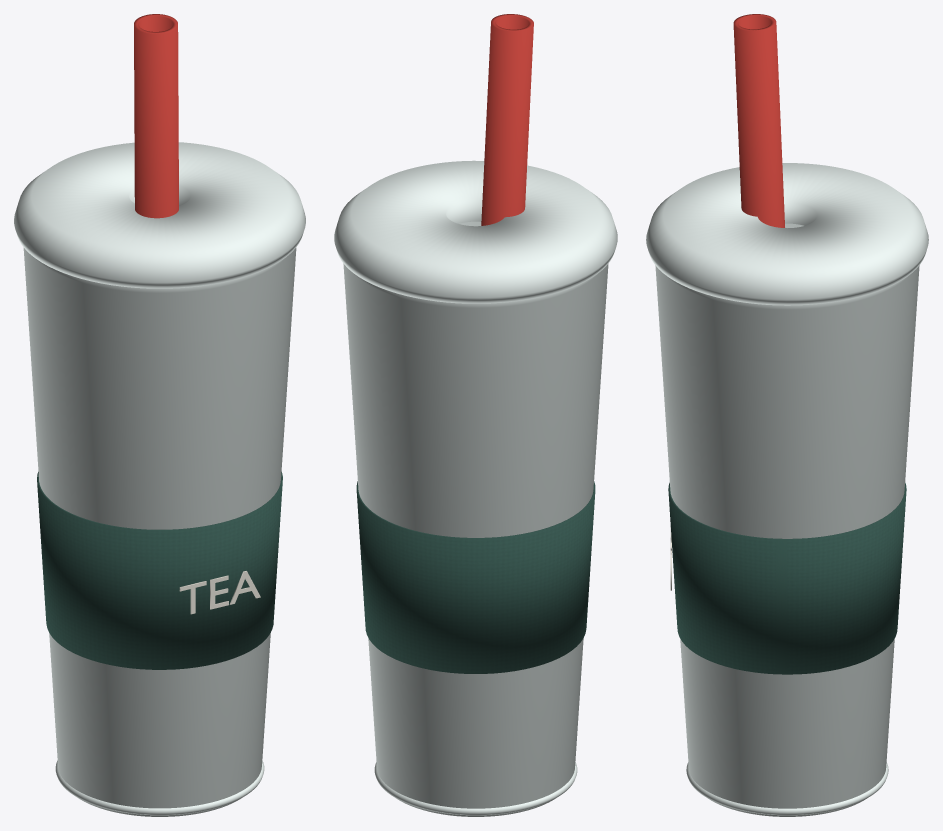
Rendered from bubble_tea.glb.
3 renders of one model, left to right at view 1: azimuth 30°, elevation 25°; view 2: azimuth 150°, elevation 25°; view 3: azimuth 270°, elevation 25°, orthographic. The views are drawn at different scales.
Visible parts, largest first — view 1: GEO-Open tapered PET cup, GEO-Sage paper cup sleeve, GEO-Snap fit lid with open straw port, GEO-Hollow wide boba straw, GEO-Lower embossed cup foot, GEO-Cup sleeve identity; view 2: GEO-Open tapered PET cup, GEO-Sage paper cup sleeve, GEO-Snap fit lid with open straw port, GEO-Hollow wide boba straw, GEO-Lower embossed cup foot; view 3: GEO-Open tapered PET cup, GEO-Sage paper cup sleeve, GEO-Snap fit lid with open straw port, GEO-Hollow wide boba straw, GEO-Lower embossed cup foot.
Boxes of the visible parts, left/top/right/bottom form: GEO-Open tapered PET cup: left=23, top=247, right=296, bottom=816; GEO-Sage paper cup sleeve: left=37, top=472, right=282, bottom=669; GEO-Snap fit lid with open straw port: left=14, top=142, right=305, bottom=288; GEO-Hollow wide boba straw: left=134, top=14, right=178, bottom=218; GEO-Lower embossed cup foot: left=55, top=760, right=264, bottom=815; GEO-Cup sleeve identity: left=179, top=571, right=260, bottom=614; GEO-Open tapered PET cup: left=343, top=221, right=608, bottom=816; GEO-Sage paper cup sleeve: left=356, top=481, right=595, bottom=673; GEO-Snap fit lid with open straw port: left=334, top=160, right=617, bottom=303; GEO-Hollow wide boba straw: left=481, top=14, right=533, bottom=225; GEO-Lower embossed cup foot: left=374, top=762, right=577, bottom=815; GEO-Open tapered PET cup: left=655, top=223, right=919, bottom=816; GEO-Sage paper cup sleeve: left=668, top=482, right=906, bottom=674; GEO-Snap fit lid with open straw port: left=646, top=163, right=928, bottom=305; GEO-Hollow wide boba straw: left=733, top=14, right=784, bottom=227; GEO-Lower embossed cup foot: left=686, top=762, right=888, bottom=815.
Bounding box in the file's own units: 0.074 × 0.2152 × 0.074.
7 materials, 1 textured.
